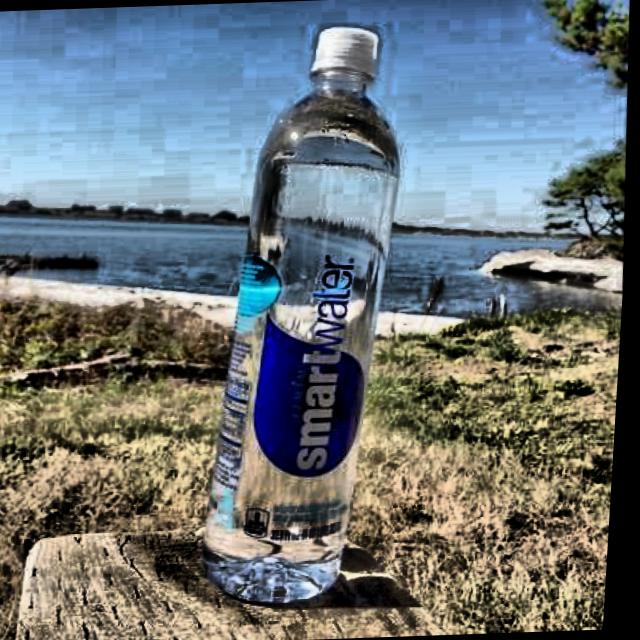Bottles: (177, 12, 426, 622)
